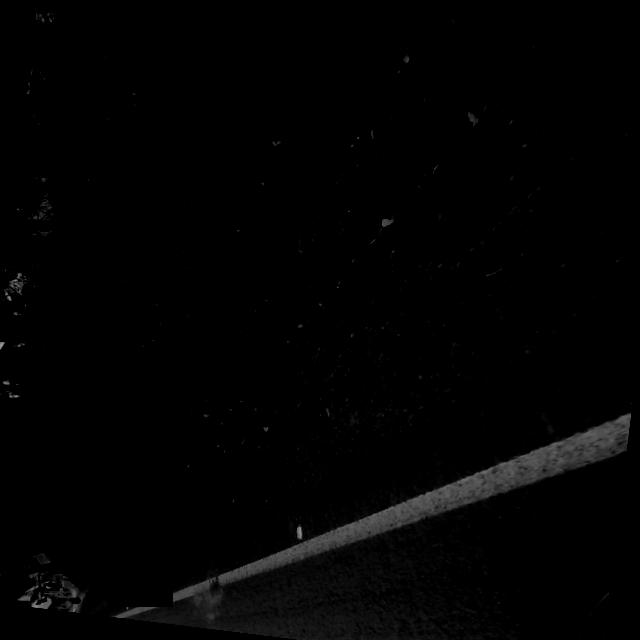DITCH: (73, 0, 640, 640), (86, 0, 640, 640)
